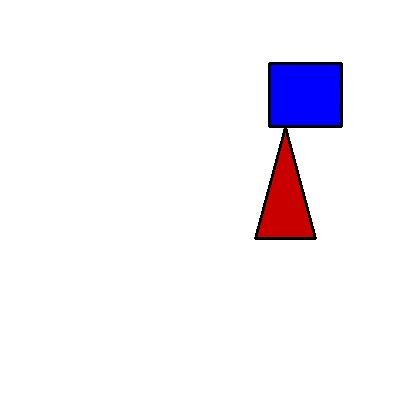rectangle: (269, 63, 341, 126)
triangle: (255, 127, 315, 238)
